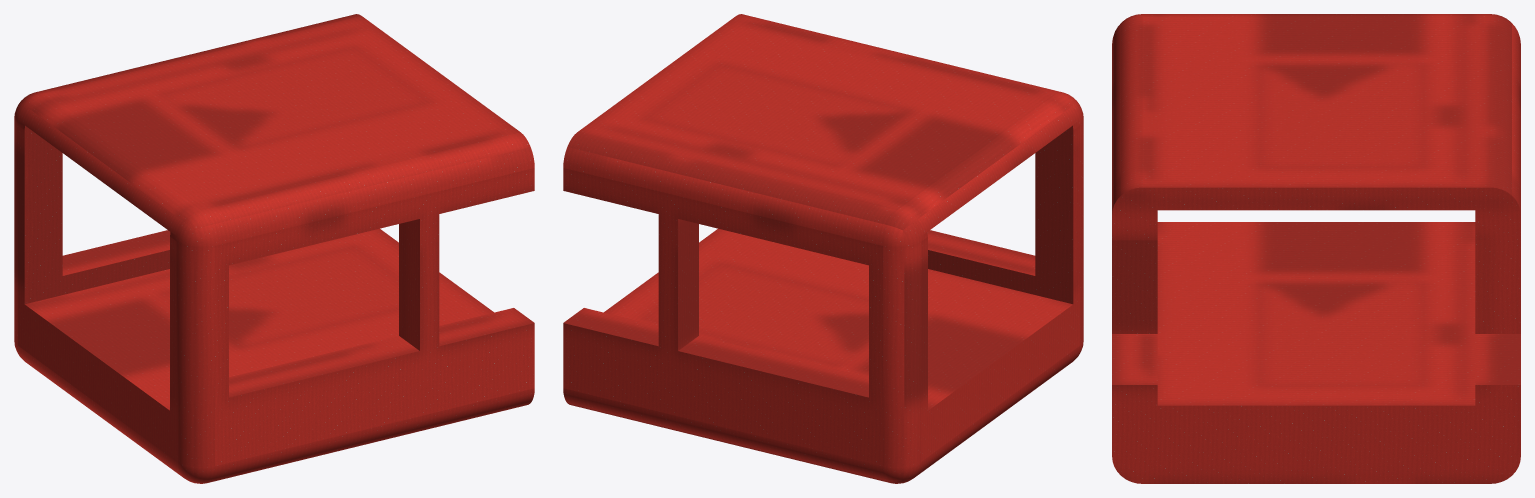
File: 17-rounded-red-lunch-tin-half-1.fbx
The picture shows the model from 3 angles, left to right: view 1: azimuth 30°, elevation 25°; view 2: azimuth 150°, elevation 25°; view 3: azimuth 270°, elevation 25°; orthographic projection. The views are drawn at different scales.
Parts seen in each view (by area): view 1: rounded-red-lunch-tin-half-1; view 2: rounded-red-lunch-tin-half-1; view 3: rounded-red-lunch-tin-half-1.
Part boxes in pixels (bbox=[...]): rounded-red-lunch-tin-half-1: bbox=[14, 14, 534, 483]; rounded-red-lunch-tin-half-1: bbox=[563, 14, 1083, 483]; rounded-red-lunch-tin-half-1: bbox=[1112, 14, 1520, 483].
Size of the model in its own units: 8500 by 6400 by 8000.
Materials: 1 (1 with a texture image).
